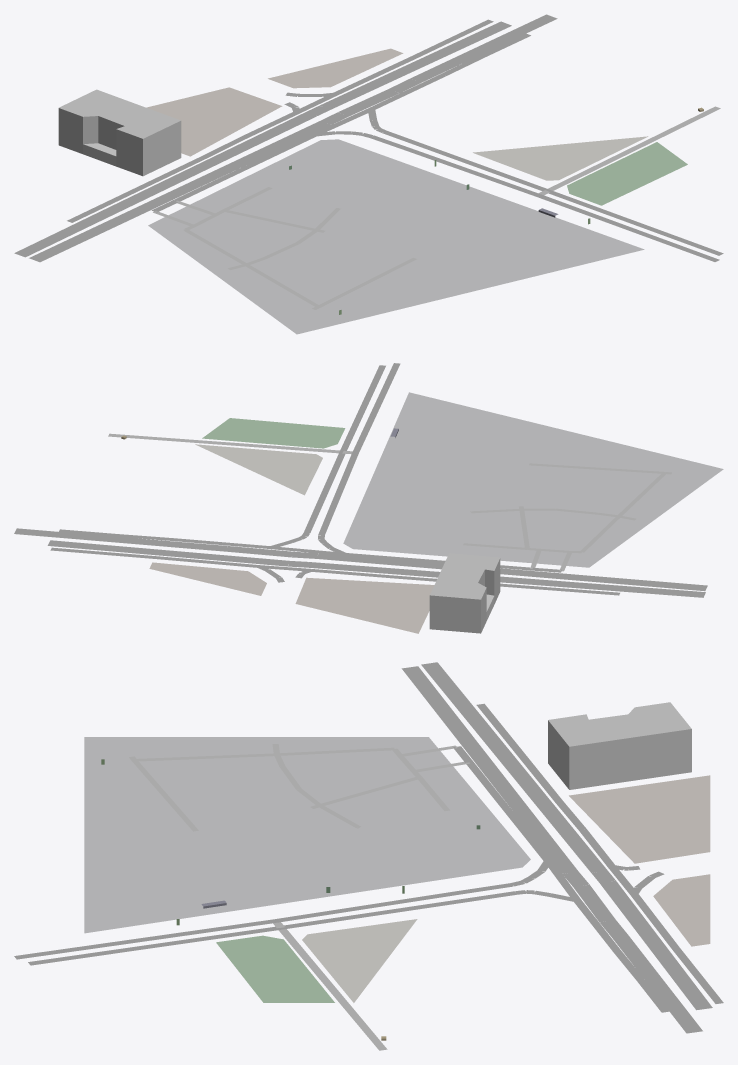
The picture shows the model from 3 angles, top to bottom: view 1: azimuth 30°, elevation 25°; view 2: azimuth 150°, elevation 25°; view 3: azimuth 270°, elevation 25°; orthographic projection. The views are drawn at different scales.
Bounding box in the file's own units: 727 × 40.28 × 567.
